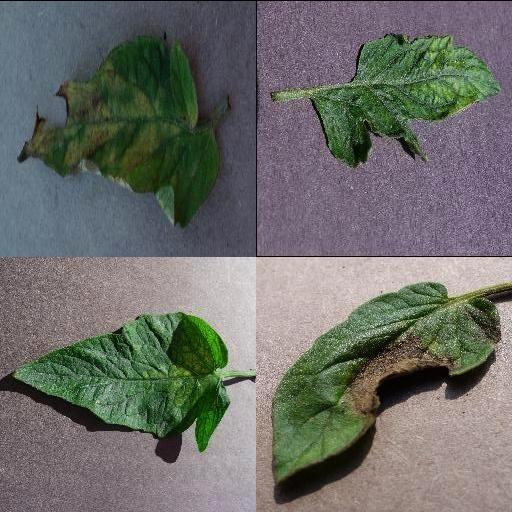Late Blight: (269, 280, 501, 488)
Leaf Mold: (16, 32, 224, 230)
Mosaic Virus: (309, 34, 503, 170)
Spider Mites: (9, 310, 229, 452)
